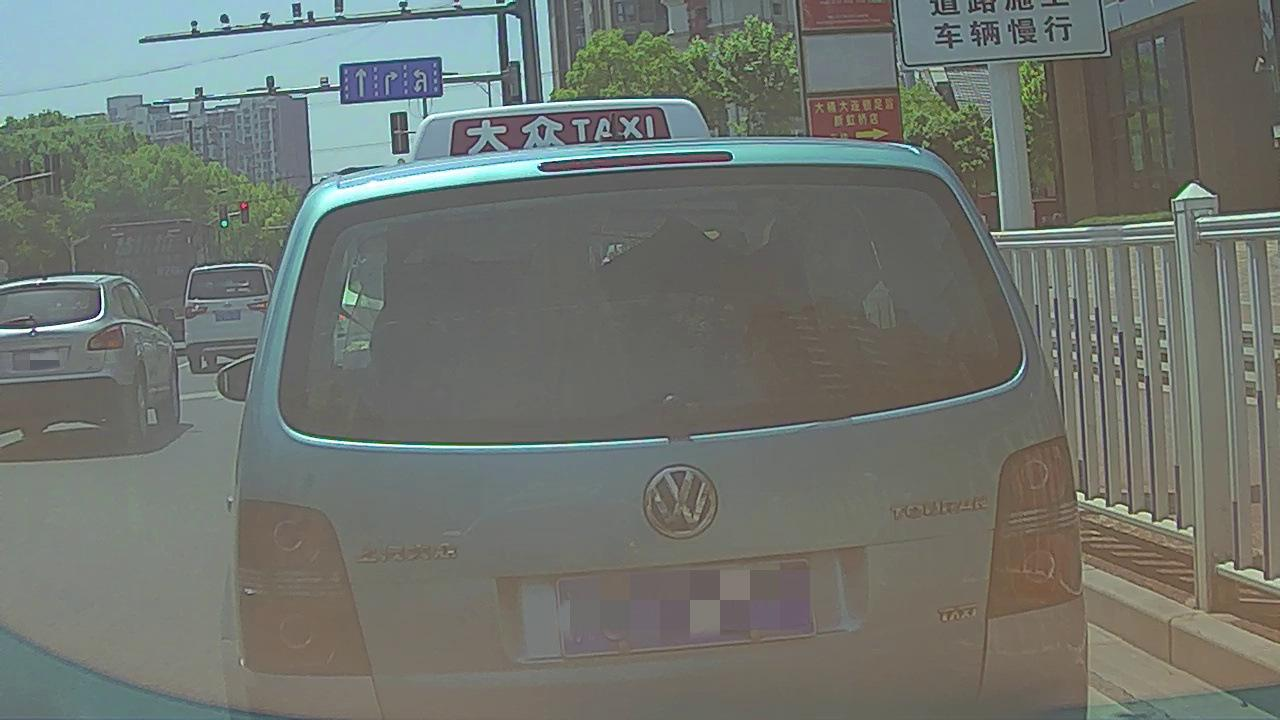traffic_light: (239, 201, 250, 224), (219, 203, 229, 228)
